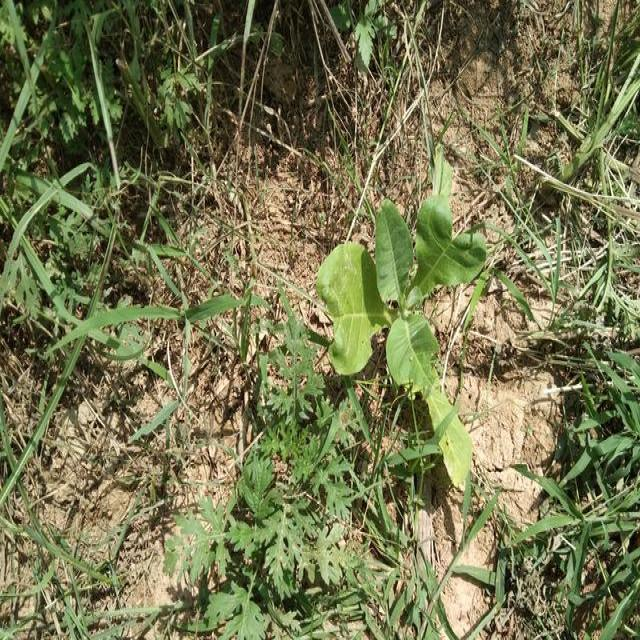crop: (316, 190, 482, 483)
